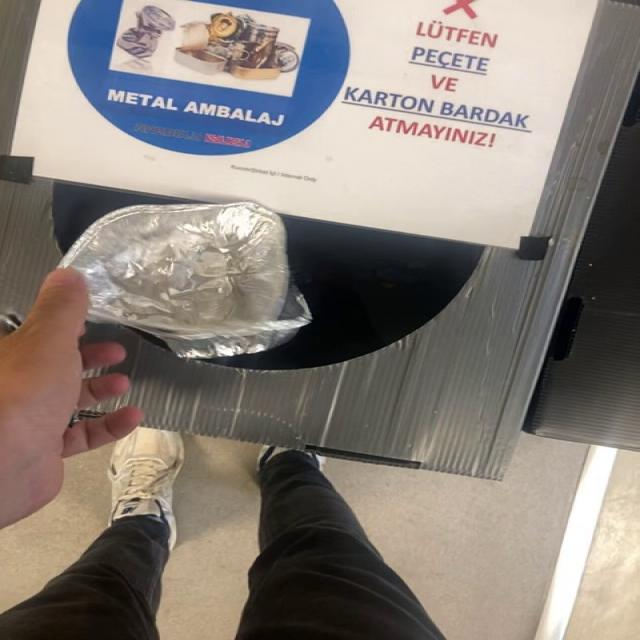metal: (59, 202, 311, 358)
